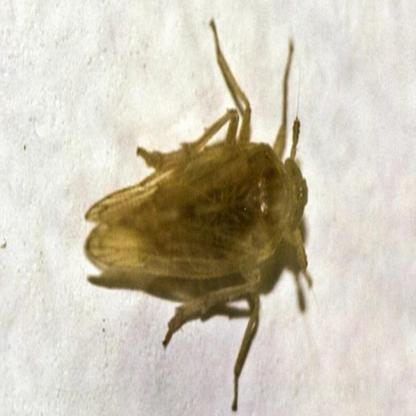brown-planthopper: (81, 107, 312, 328)
